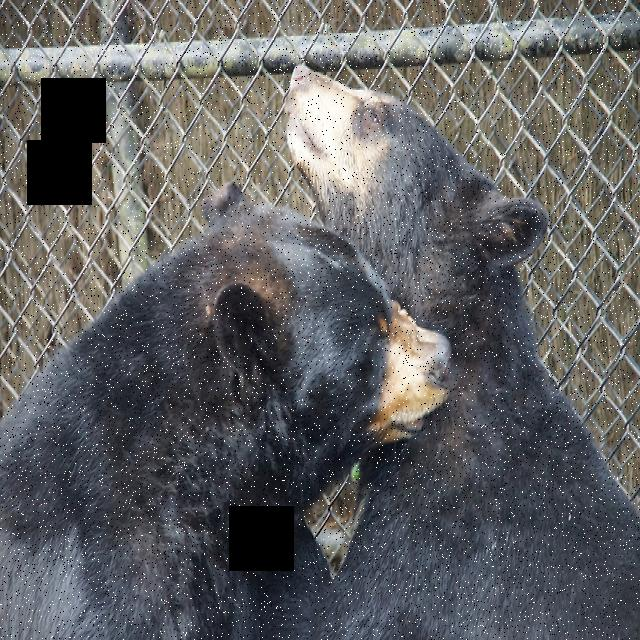Bear: (277, 51, 640, 640), (0, 203, 453, 640)
